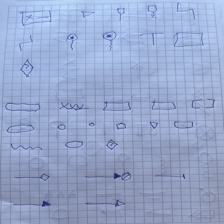control: (14, 173, 50, 182)
degradation: (85, 172, 131, 182)
dna-stability-element: (118, 7, 125, 22)
dsNA: (60, 102, 88, 110)
five-prime-sticky-restriction-site: (177, 2, 196, 21)
generic-sbgn: (65, 140, 83, 148)
halfround-rectangle: (174, 120, 194, 130)
inhibition: (156, 173, 186, 180)
no-glyph-assigned: (192, 99, 214, 109)
protein: (7, 125, 34, 133)
protein-stability-element: (148, 4, 157, 19)
replacement-glyph: (20, 60, 34, 78), (106, 139, 118, 151)
signature: (21, 11, 52, 26)
simple-chemical-circle: (58, 124, 65, 130)
simple-chemical-hexagon: (88, 122, 95, 127)
simple-chemical-pentagon: (116, 123, 127, 130)
simple-chemical-triangle: (149, 121, 158, 129)
specific-recombination-site: (81, 10, 95, 18)
ssNA: (10, 143, 42, 152)
terminator: (140, 32, 163, 47)
three-prime-sticky-restriction-site: (19, 35, 33, 51)
transcription-end: (67, 32, 77, 50)
translation-end: (103, 31, 116, 51)
